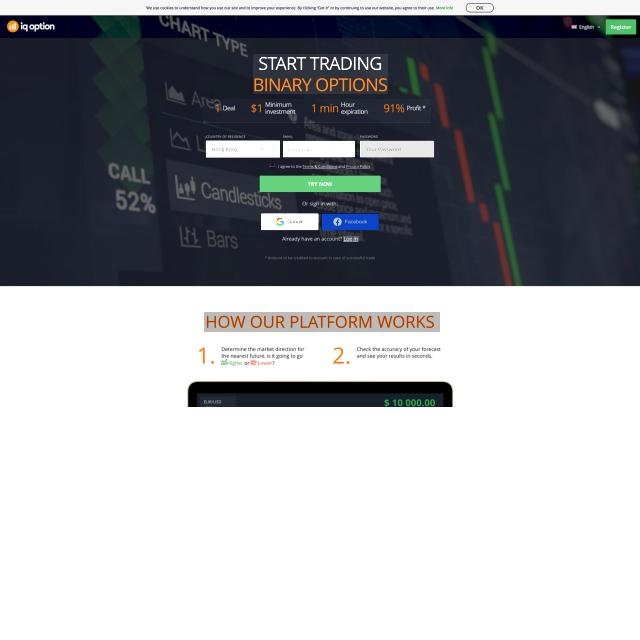CheckBox: (260, 176, 381, 192), (261, 213, 319, 230), (321, 213, 379, 230), (343, 236, 359, 242), (270, 163, 275, 170)
CheckedTextView: (284, 140, 358, 158), (361, 141, 434, 157)
ProgressBar: (0, 0, 640, 16)
QR code: (203, 100, 431, 124)
alert: (206, 140, 280, 158)
bag: (0, 16, 640, 38)
breadcrumbs: (204, 312, 440, 332)
card: (0, 38, 640, 286)
image: (253, 54, 388, 94)
